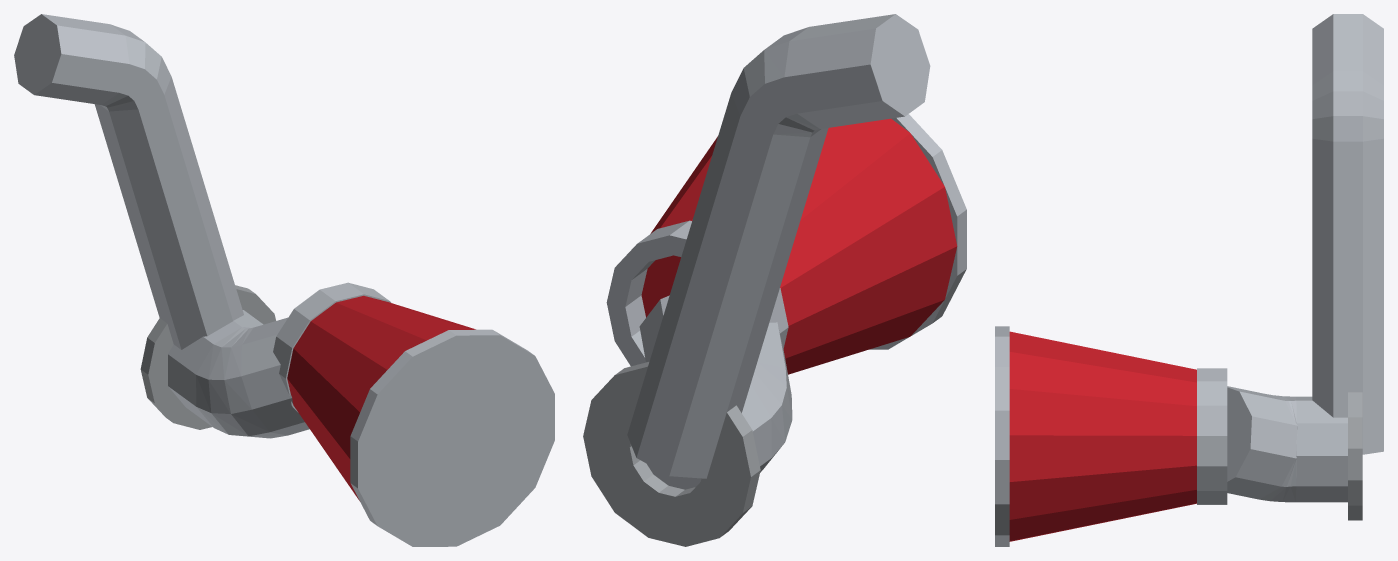
The model's file is strada_evo.glb.
3 views of the same model, side by side, from view 1: azimuth 30°, elevation 25°; view 2: azimuth 150°, elevation 25°; view 3: azimuth 270°, elevation 25° (orthographic). The views are drawn at different scales.
Visible parts, largest first — view 1: model; view 2: model; view 3: model.
Part boxes in pixels (bbox=[...]): model: bbox=[14, 14, 554, 546]; model: bbox=[583, 14, 966, 546]; model: bbox=[995, 14, 1383, 546].
Bounding box in the file's own units: 0.3094 × 0.3863 × 0.3216.
2 materials, 1 textured.
